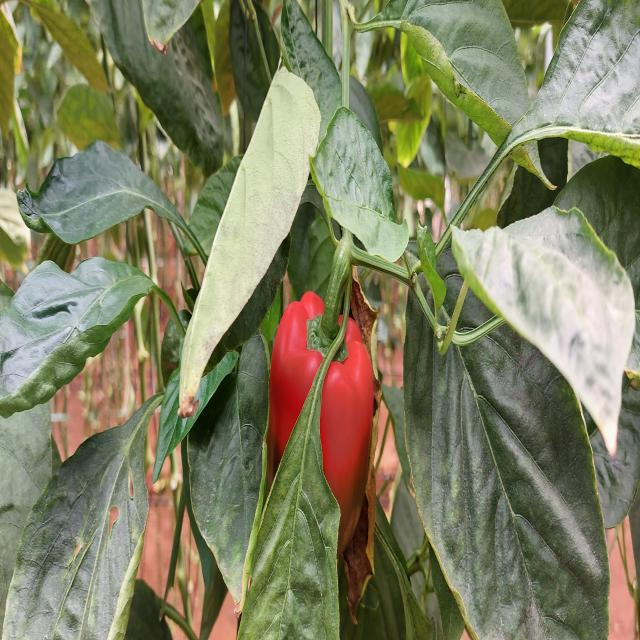Red-Ready-to-Harvest: (266, 293, 373, 593)
